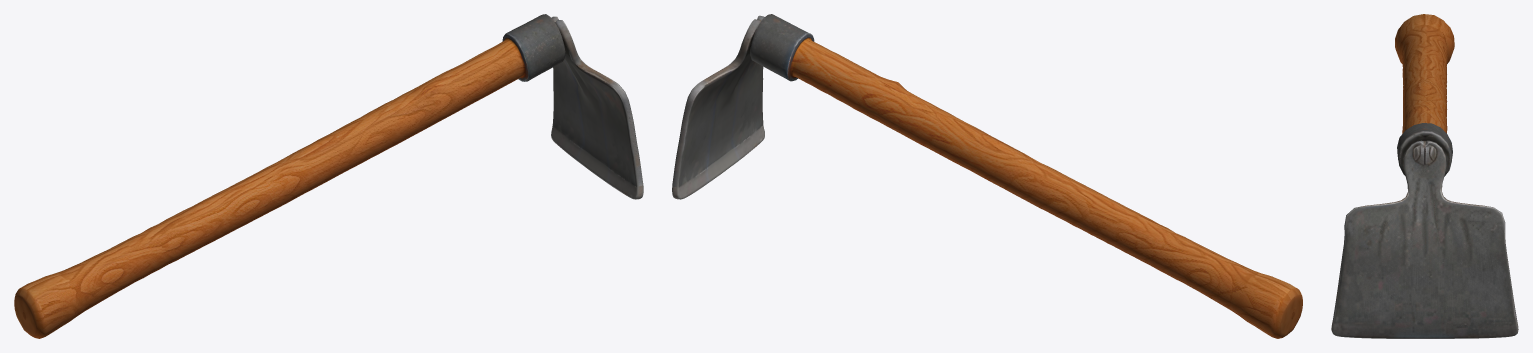
Rendered from hoe.glb.
3 renders of one model, left to right at view 1: azimuth 30°, elevation 25°; view 2: azimuth 150°, elevation 25°; view 3: azimuth 270°, elevation 25°, orthographic. The views are drawn at different scales.
Parts seen in each view (by area): view 1: tripo_node_002ff879; view 2: tripo_node_002ff879; view 3: tripo_node_002ff879.
Part boxes in pixels (left/top/right/bottom): tripo_node_002ff879: left=14, top=14, right=643, bottom=338; tripo_node_002ff879: left=672, top=14, right=1302, bottom=338; tripo_node_002ff879: left=1331, top=14, right=1518, bottom=338.
Bounding box in the file's own units: 97.98 × 31.4 × 25.29.
1 material, 1 textured.
